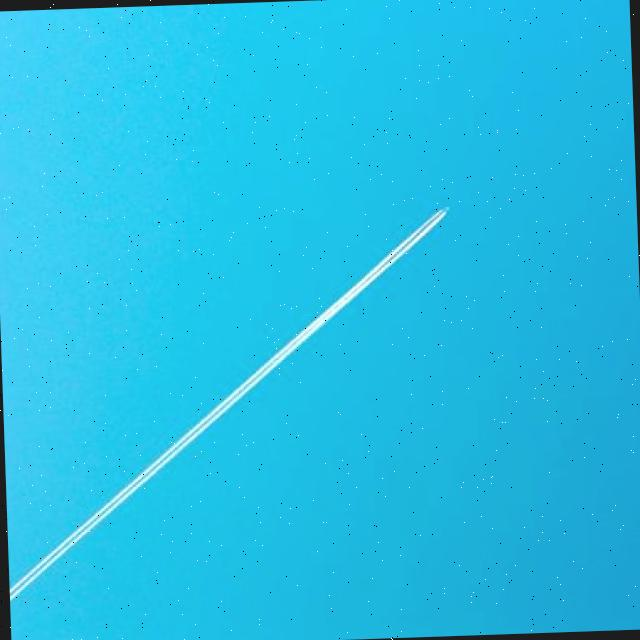Ct: (1, 175, 522, 572)
